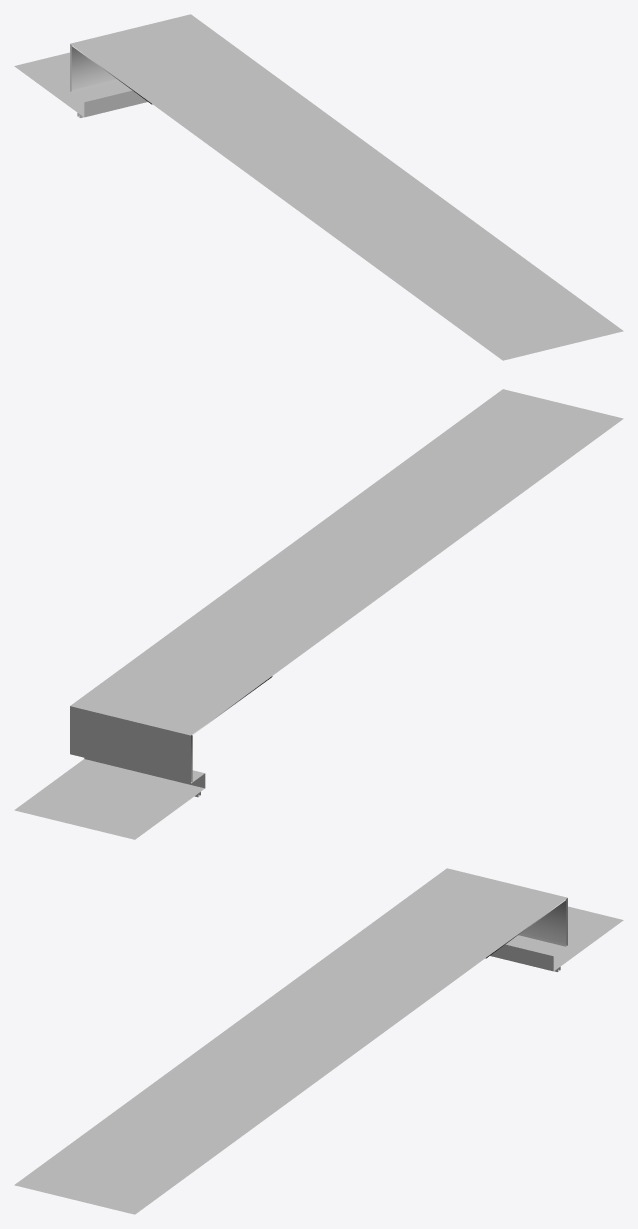
Rendered from Ceiling02_10_50x350cm.FBX.
3 views of the same model, one above another, from view 1: azimuth 30°, elevation 25°; view 2: azimuth 150°, elevation 25°; view 3: azimuth 330°, elevation 25° (orthographic).
Visible parts, largest first — view 1: Ceiling, Backlight; view 2: Ceiling; view 3: Ceiling, Backlight.
Part boxes in pixels (bbox=[...]): Ceiling: bbox=[14, 14, 623, 360]; Backlight: bbox=[71, 45, 152, 104]; Ceiling: bbox=[14, 389, 623, 839]; Ceiling: bbox=[14, 868, 623, 1214]; Backlight: bbox=[485, 899, 566, 958].
Bounding box in the file's own units: 50.01 × 26.5 × 350.
